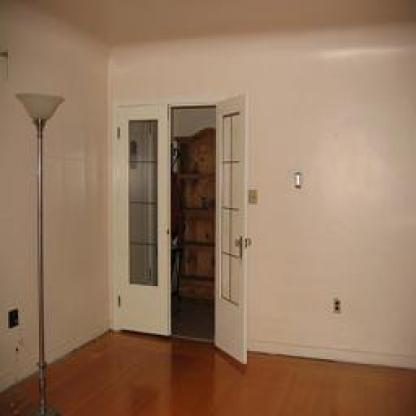other: (92, 332, 226, 410), (168, 129, 212, 297)
